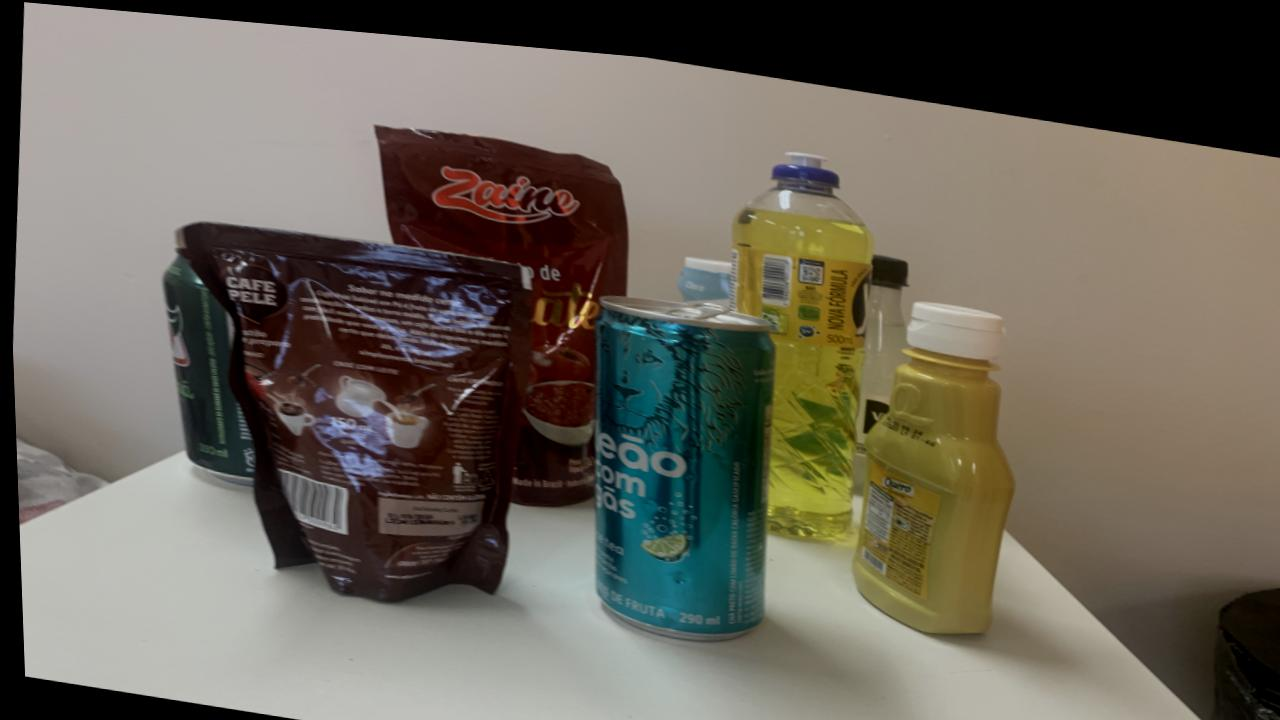Cleaner-Cleanup_Items: (676, 243, 727, 288)
Coffee-Pantry_Items: (175, 218, 528, 595)
Detergent-Cleanup_Items: (727, 138, 872, 523)
Guarana_Can-Drinks: (160, 252, 252, 478)
Mustard-Pantry_Items: (848, 285, 1010, 616)
Soda-Drinks: (853, 237, 906, 439)
Tea-Drinks: (589, 284, 772, 627)
Tomato_Sauce-Pantry_Items: (373, 118, 626, 496)
